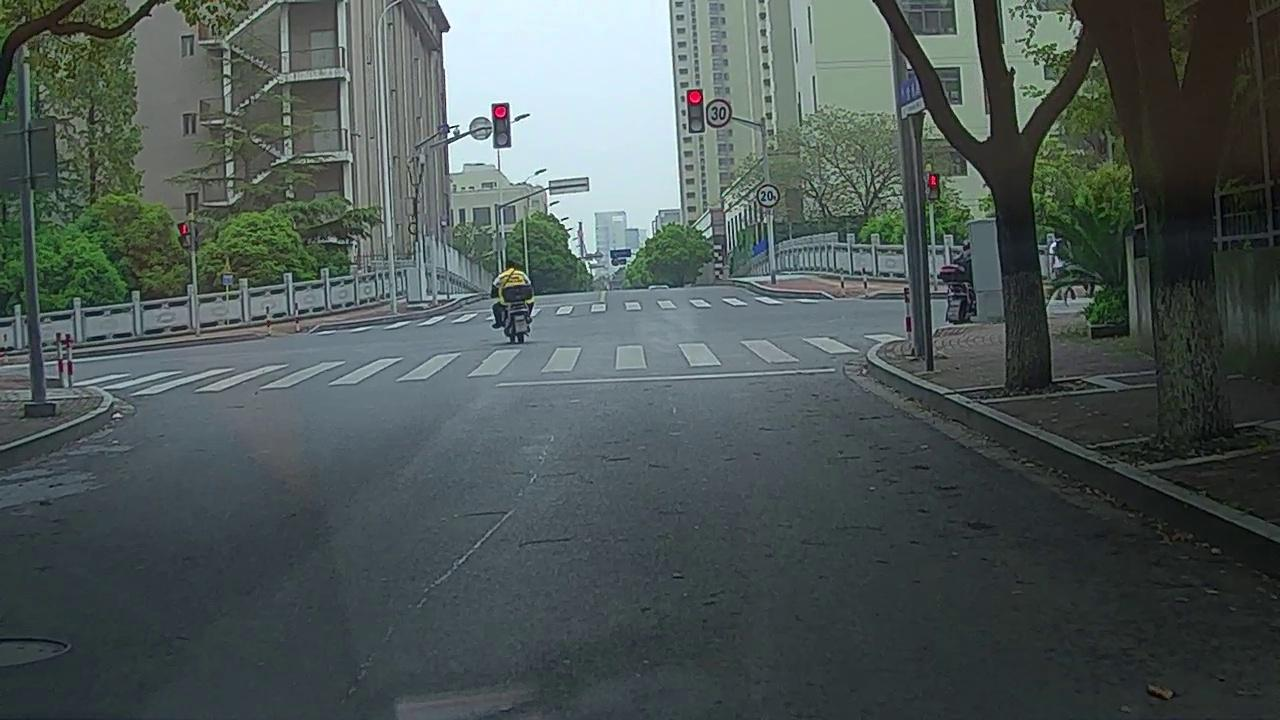traffic_light: (686, 90, 705, 132), (493, 103, 510, 147)
